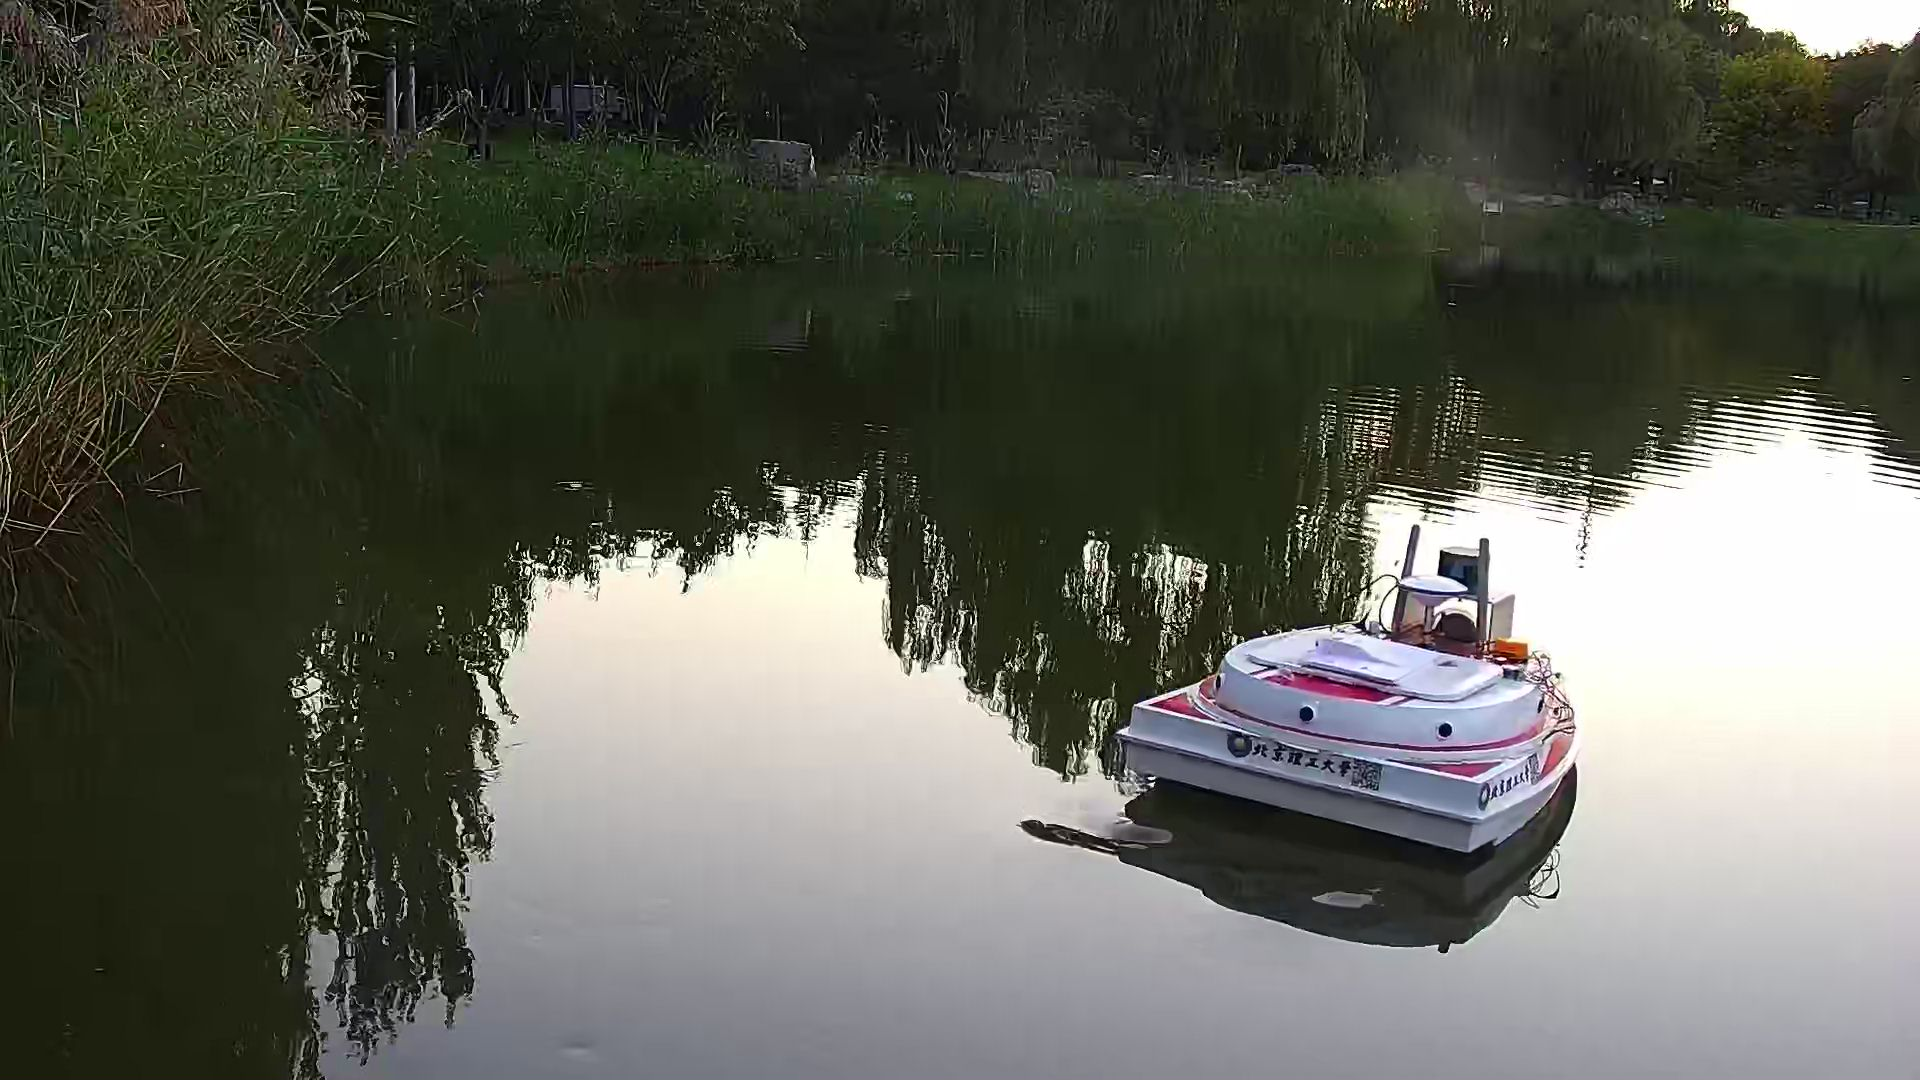boat: (1118, 527, 1580, 889)
